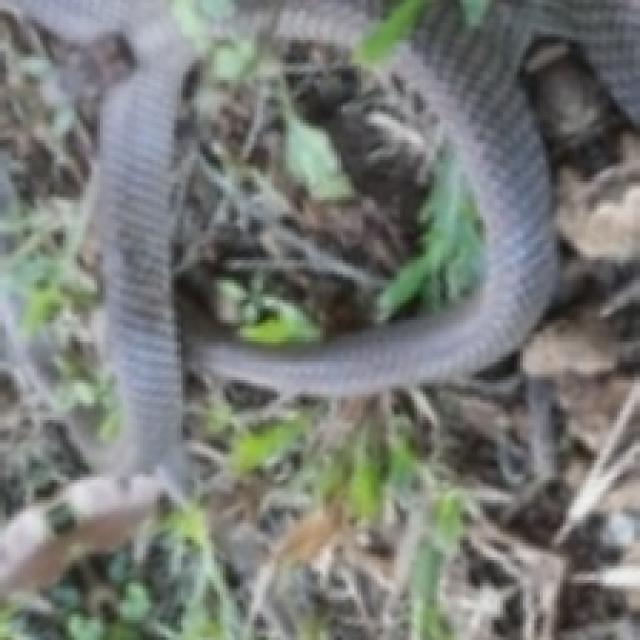paradise tree snake: (186, 0, 637, 394), (0, 0, 194, 474)
